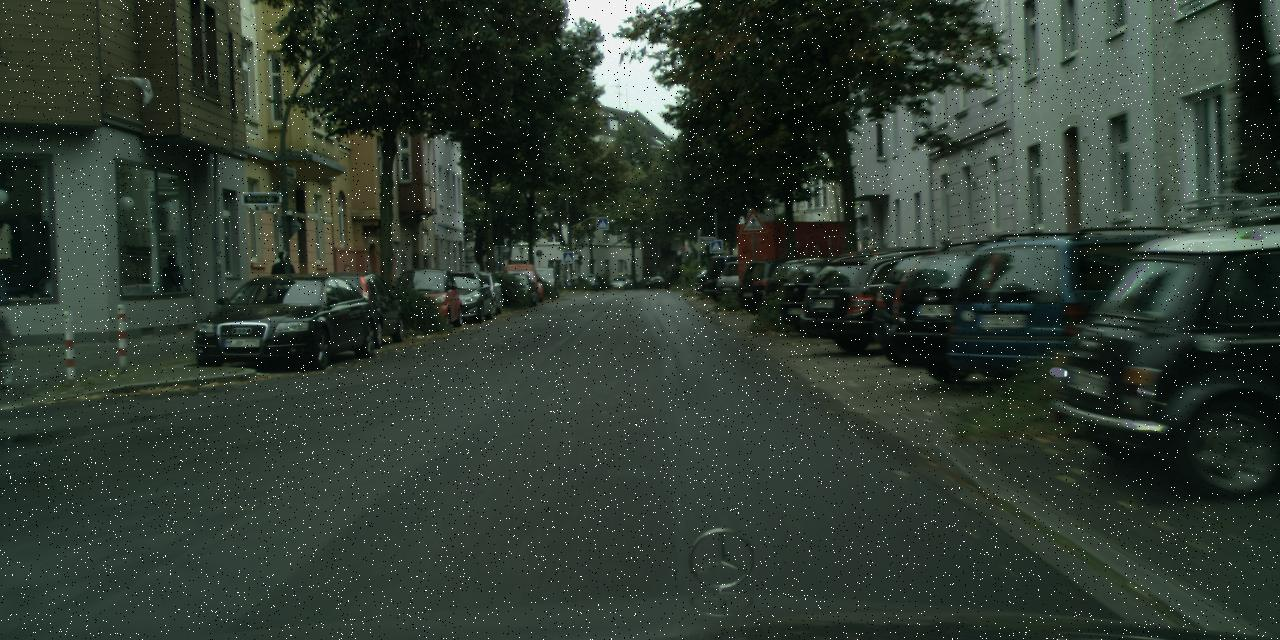ped: (269, 250, 298, 324)
